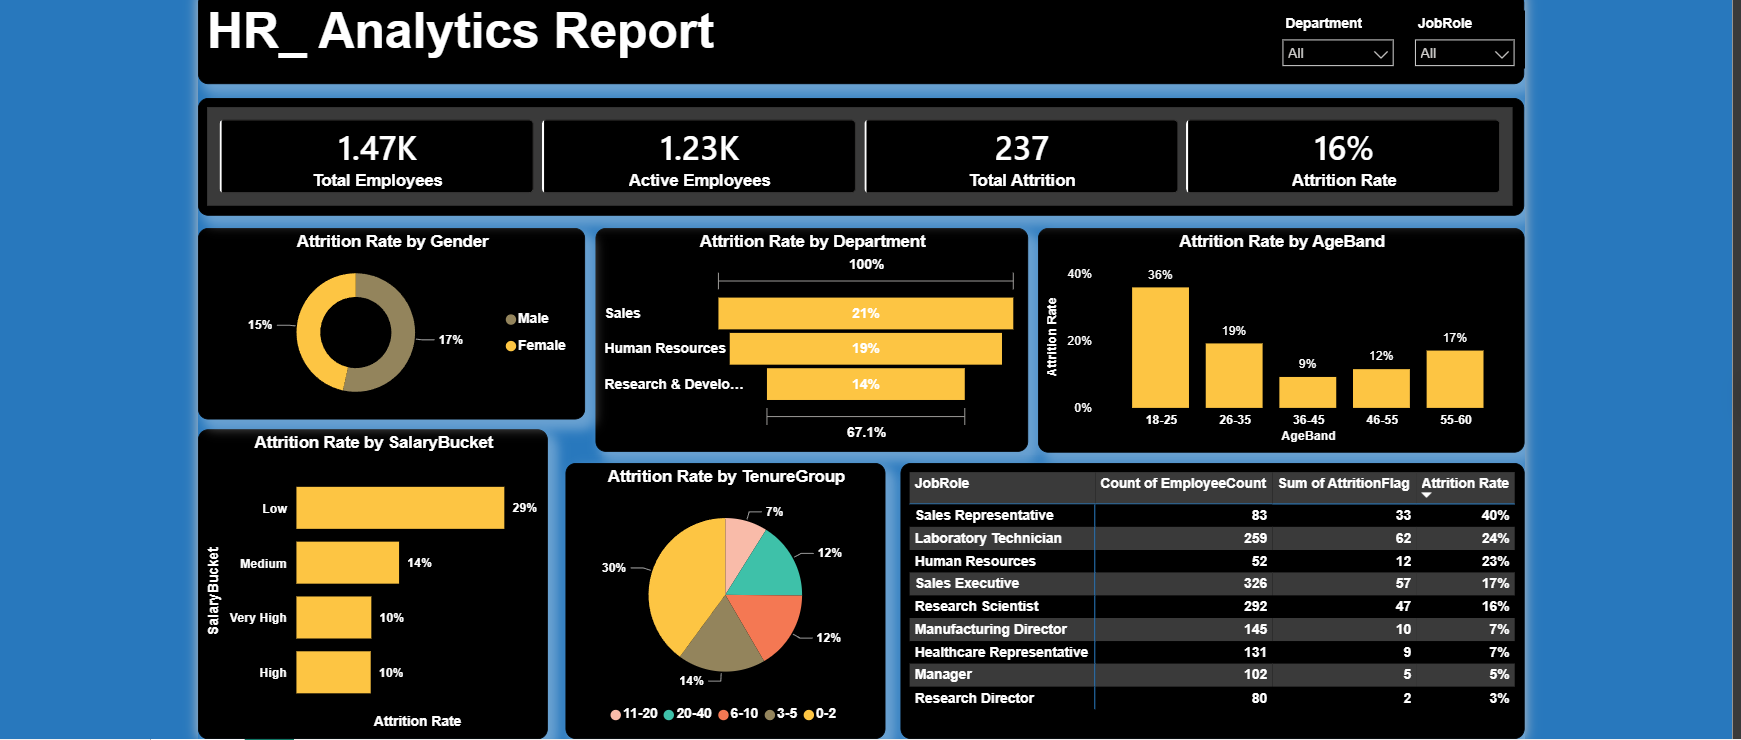

The page's visual inventory and layout, read from the dashboard file:
{"tool":"powerbi","page":{"name":"Page 1","canvas":[1280,720],"ordinal":0},"visuals":[{"type":"textbox","box":[0,0,1280.3,87.8],"z":0},{"type":"funnel","fields":{"Category":["HR_Analytics_Data.Department"],"Y":["HR_Analytics_Data.Attrition Rate"]},"box":[383.6,226.8,417.4,216],"z":1000},{"type":"columnChart","fields":{"Category":["HR_Analytics_Data.AgeBand"],"Y":["HR_Analytics_Data.Attrition Rate"]},"box":[810.7,226.2,469.6,216.4],"z":2000},{"type":"barChart","fields":{"Category":["HR_Analytics_Data.SalaryBucket"],"Y":["HR_Analytics_Data.Attrition Rate"]},"box":[0,421,337.8,299.2],"z":3000},{"type":"pieChart","fields":{"Category":["HR_Analytics_Data.TenureGroup"],"Y":["HR_Analytics_Data.Attrition Rate"]},"box":[354.7,453.6,308.8,266.6],"z":4000},{"type":"pivotTable","fields":{"Rows":["HR_Analytics_Data.JobRole"],"Values":["CountNonNull(HR_Analytics_Data.EmployeeCount)","Sum(HR_Analytics_Data.AttritionFlag)","HR_Analytics_Data.Attrition Rate"]},"box":[678,453.6,602,266.6],"z":5000},{"type":"donutChart","fields":{"Category":["HR_Analytics_Data.Gender"],"Y":["HR_Analytics_Data.Attrition Rate"]},"box":[0,226.8,374,184.6],"z":6000},{"type":"cardVisual","fields":{"Data":["HR_Analytics_Data.Total Employees","HR_Analytics_Data.Active Employees","HR_Analytics_Data.Total Attrition","HR_Analytics_Data.Attrition Rate"]},"box":[0,101.5,1280.3,113.9],"z":7000},{"type":"slicer","fields":{"Values":["HR_Analytics_Data.Department"]},"box":[1036.3,16.9,127.9,56.7],"z":8000},{"type":"slicer","fields":{"Values":["HR_Analytics_Data.JobRole"]},"box":[1163.6,16.5,116.6,56.3],"z":9000}]}

Visuals, with their boxes in screenshot pixels (x1, y1, x2, y2):
textbox: (186, 0, 1529, 83)
funnel - HR_Analytics_Data.Department x HR_Analytics_Data.Attrition Rate: (588, 229, 1026, 456)
columnChart - HR_Analytics_Data.AgeBand x HR_Analytics_Data.Attrition Rate: (1037, 228, 1529, 455)
barChart - HR_Analytics_Data.SalaryBucket x HR_Analytics_Data.Attrition Rate: (186, 433, 540, 739)
pieChart - HR_Analytics_Data.TenureGroup x HR_Analytics_Data.Attrition Rate: (558, 467, 882, 739)
pivotTable - HR_Analytics_Data.JobRole x CountNonNull(HR_Analytics_Data.EmployeeCount): (897, 467, 1529, 739)
donutChart - HR_Analytics_Data.Gender x HR_Analytics_Data.Attrition Rate: (186, 229, 578, 423)
cardVisual - HR_Analytics_Data.Total Employees x HR_Analytics_Data.Active Employees: (186, 97, 1529, 217)
slicer - HR_Analytics_Data.Department: (1273, 9, 1408, 68)
slicer - HR_Analytics_Data.JobRole: (1407, 8, 1529, 67)
